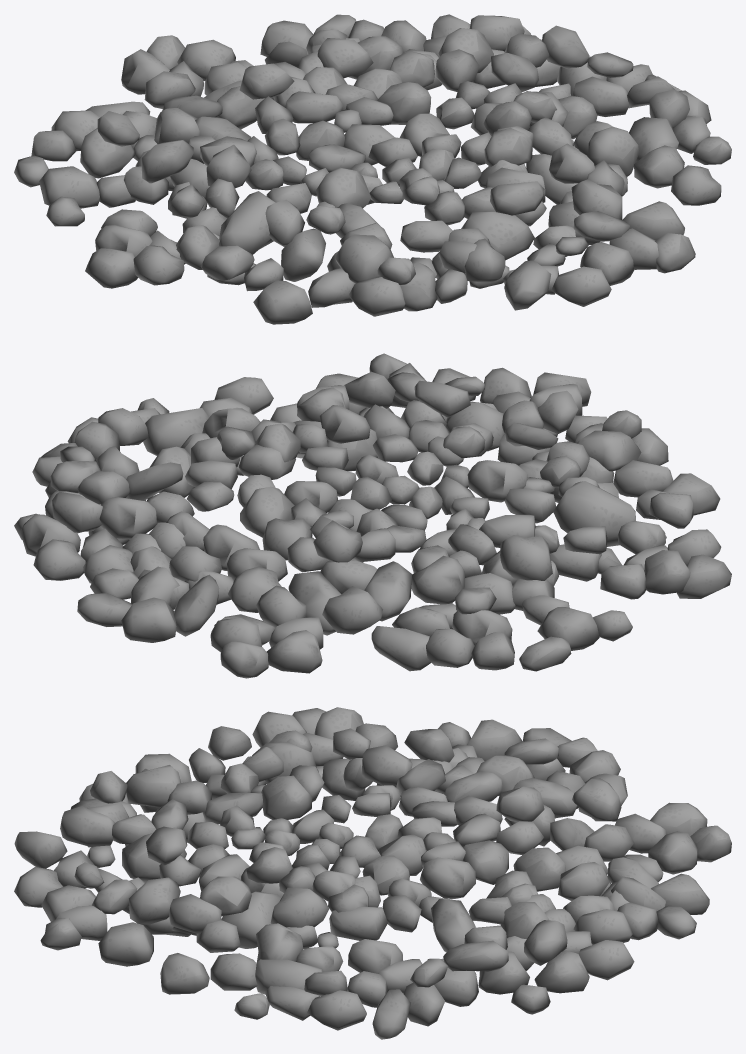
File: PebNest03.fbx
3 views of the same model, one above another, from view 1: azimuth 30°, elevation 25°; view 2: azimuth 150°, elevation 25°; view 3: azimuth 270°, elevation 25° (orthographic). The views are drawn at different scales.
Visible parts, largest first — view 1: PebNest03; view 2: PebNest03; view 3: PebNest03.
Boxes of the visible parts, box(x1,y1,x2,y2) form: PebNest03: box(14, 14, 731, 324); PebNest03: box(14, 353, 731, 678); PebNest03: box(14, 707, 731, 1039).
Size of the model in its own units: 89.49 by 10.99 by 88.02.
